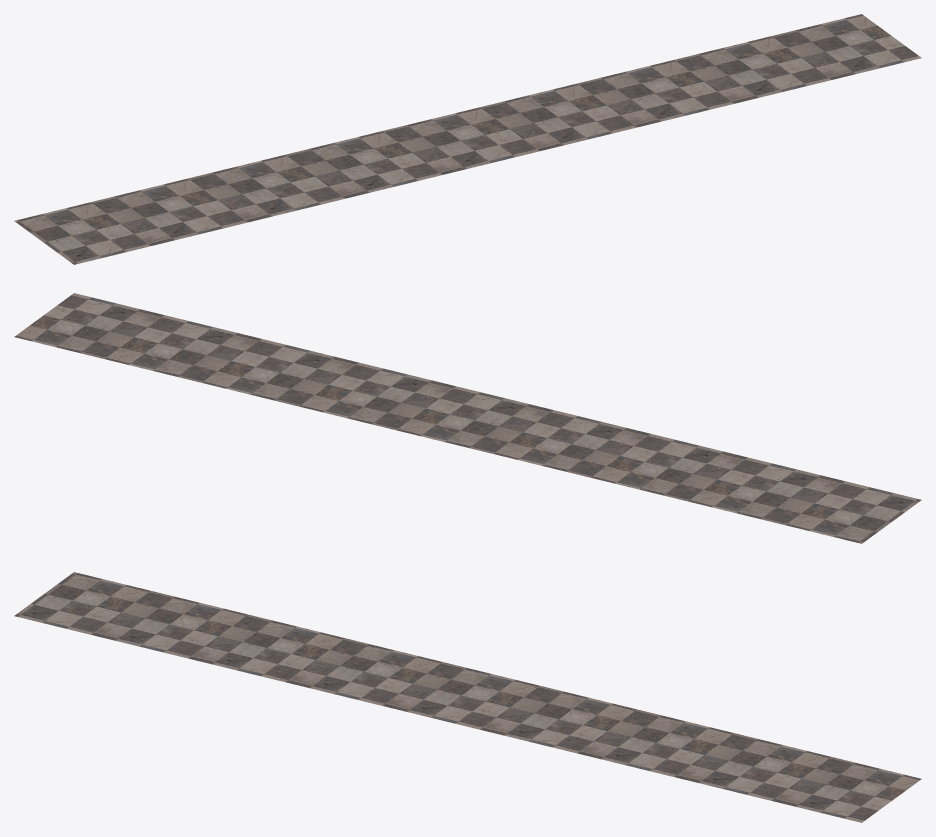
File: Hallway_floor.fbx
3 views of the same model, one above another, from view 1: azimuth 30°, elevation 25°; view 2: azimuth 150°, elevation 25°; view 3: azimuth 330°, elevation 25° (orthographic).
Parts seen in each view (by area): view 1: Hallway_floor; view 2: Hallway_floor; view 3: Hallway_floor.
Part boxes in pixels (left/top/right/bottom): Hallway_floor: left=14, top=14, right=921, bottom=264; Hallway_floor: left=14, top=293, right=921, bottom=543; Hallway_floor: left=14, top=572, right=921, bottom=822.
Size of the model in its own units: 19347 by 0 by 2377.
